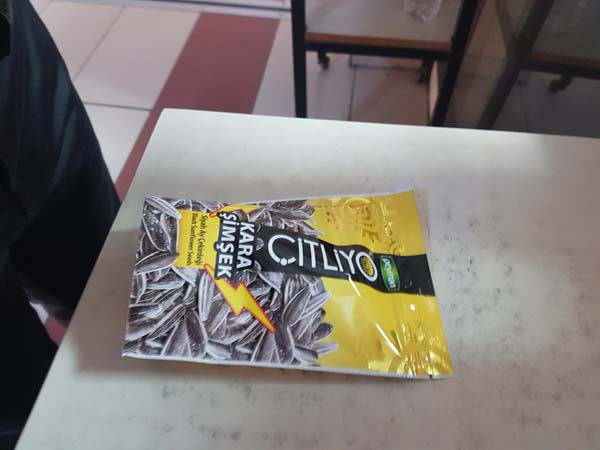citliyorkarasisimsek: (116, 186, 467, 380)
